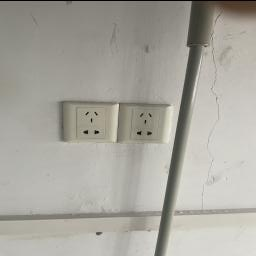outlet: (59, 98, 116, 146), (116, 101, 172, 145)
